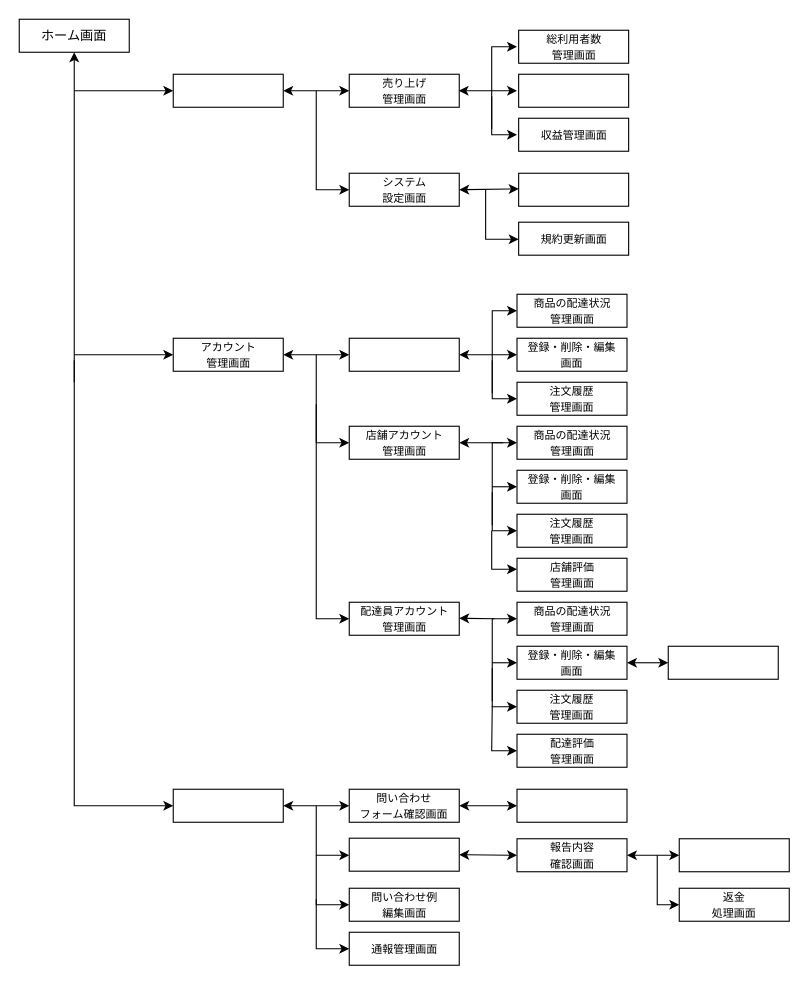
This 809x985 diagram has some shape labels left out. The centre of each missing label's shape, as x and y in pixels:
"メール 編集・送信画面" belongs at point 571,805.
"依頼者アカウント 管理画面" belongs at point 403,354.
"再配達 処理 画面" belongs at point 733,855.
"問い合わせ 対応画面" belongs at point 227,805.
"手数料率 変更画面" belongs at point 573,189.
"注文数 管理画面" belongs at point 573,90.
"誤配達 対応 画面" belongs at point 403,854.
"警告 通知 送信管理画面" belongs at point 722,662.
"運営管理画面" belongs at point 227,90.
